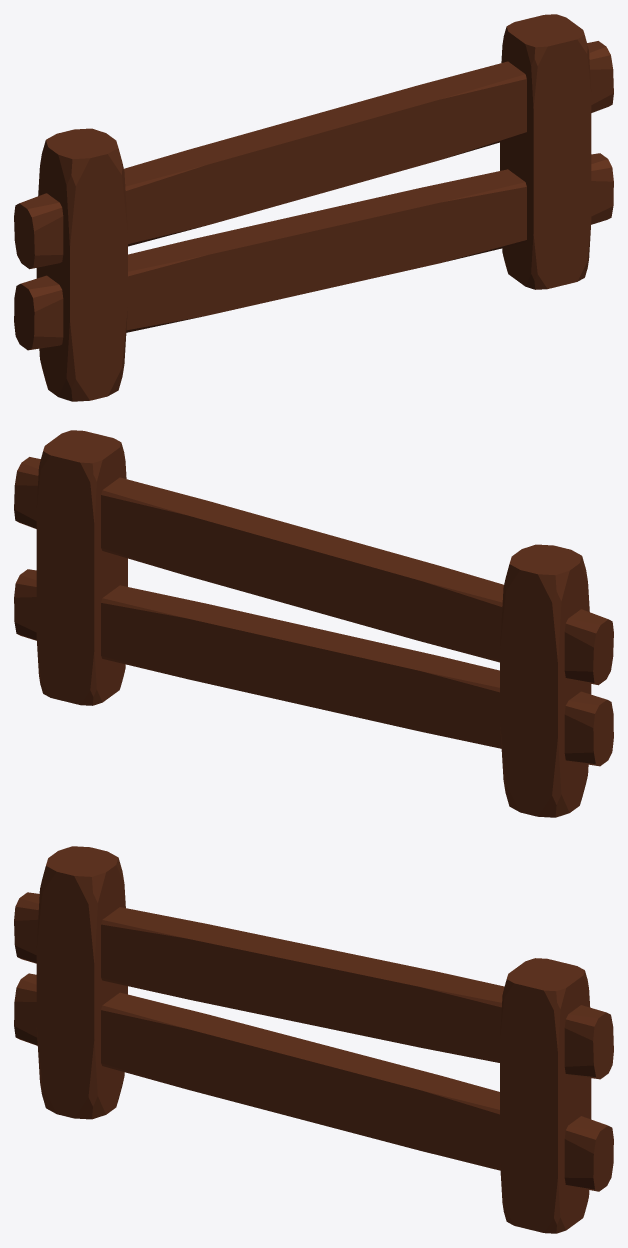
The model's file is Fence-3.fbx.
3 views of the same model, one above another, from view 1: azimuth 30°, elevation 25°; view 2: azimuth 150°, elevation 25°; view 3: azimuth 330°, elevation 25° (orthographic).
Parts seen in each view (by area): view 1: F3-Fence; view 2: F3-Fence; view 3: F3-Fence.
Part boxes in pixels (x1,y1,x2,y2): F3-Fence: [14, 14, 613, 401]; F3-Fence: [14, 430, 613, 817]; F3-Fence: [14, 846, 613, 1233].
Bounding box in the file's own units: 501 × 50 × 200.
